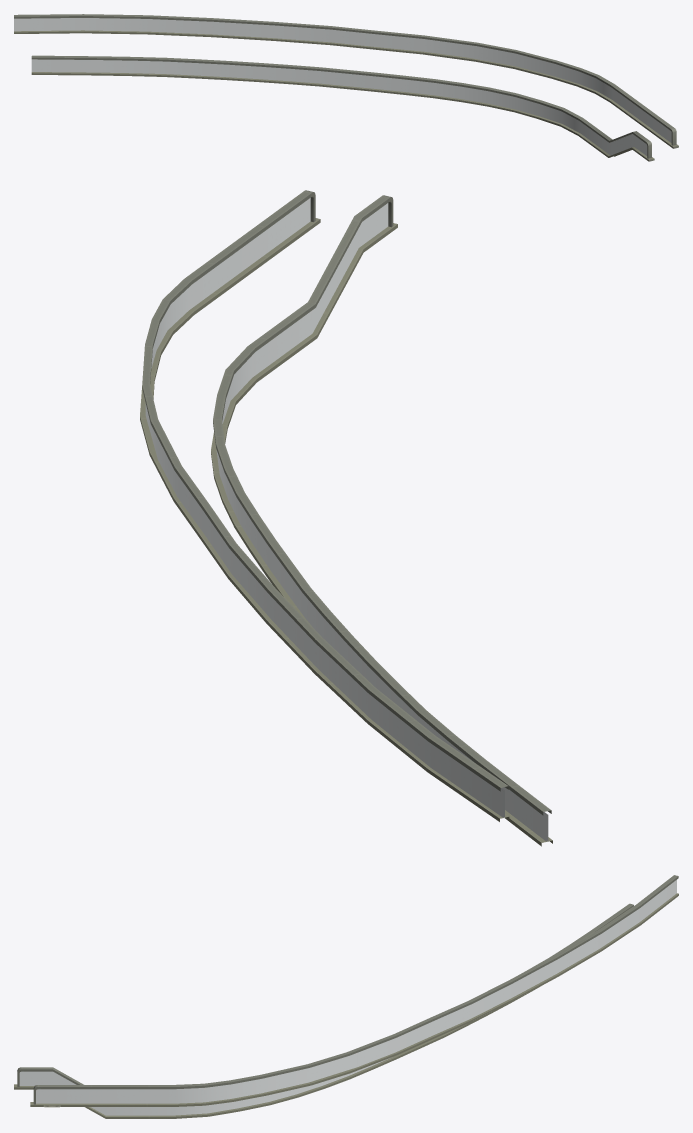
File: pref_sm_city_riverwall01_snow_lv3.fbx
3 views of the same model, one above another, from view 1: azimuth 30°, elevation 25°; view 2: azimuth 150°, elevation 25°; view 3: azimuth 270°, elevation 25° (orthographic). The views are drawn at different scales.
Visible parts, largest first — view 1: pref_sm_city_riverwall01_snow_lv3; view 2: pref_sm_city_riverwall01_snow_lv3; view 3: pref_sm_city_riverwall01_snow_lv3.
Boxes of the visible parts, <box> form: pref_sm_city_riverwall01_snow_lv3: <box>14,14,678,161</box>; pref_sm_city_riverwall01_snow_lv3: <box>140,190,552,846</box>; pref_sm_city_riverwall01_snow_lv3: <box>14,875,678,1118</box>.
Size of the model in its own units: 35.6 by 3.77 by 46.41.
